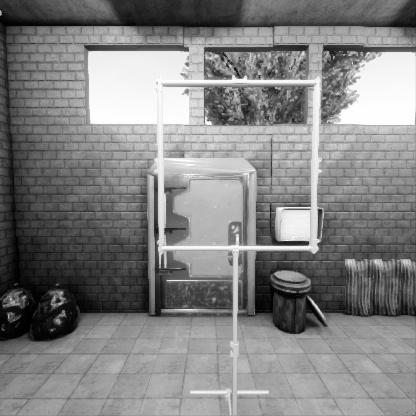gate: (154, 170, 332, 346)
